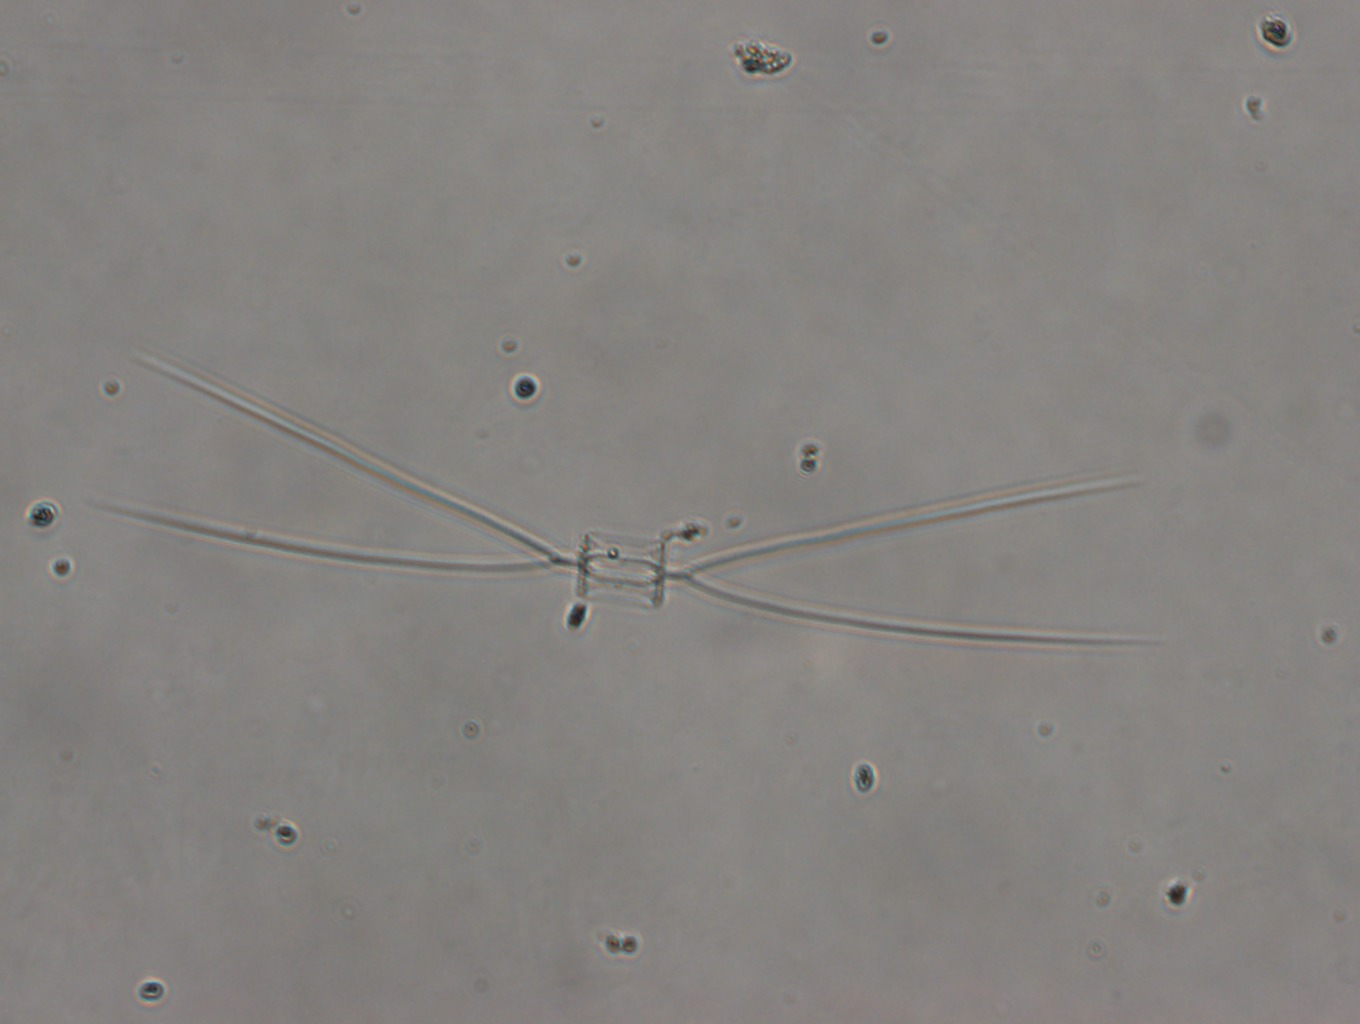chaetoceros: (90, 354, 1174, 649)
